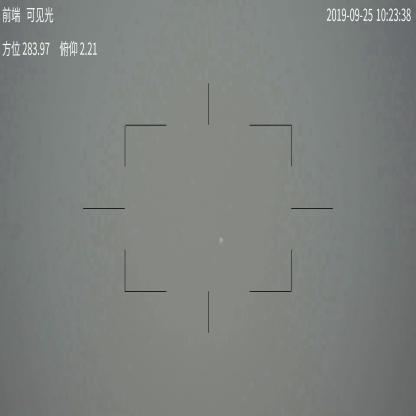uav: (218, 235, 224, 244)
